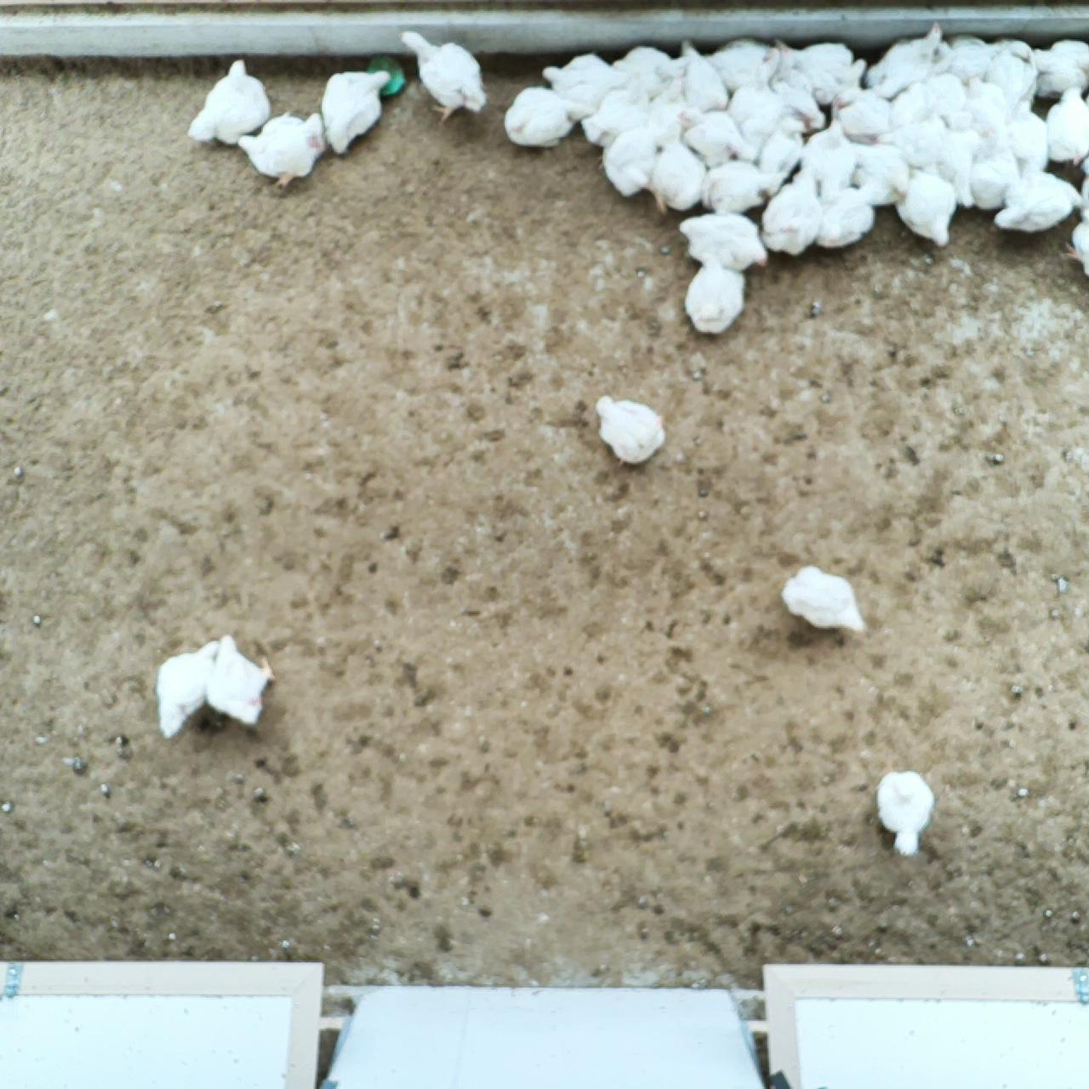chicken: (397, 29, 493, 125), (860, 22, 950, 110), (187, 57, 275, 147), (204, 629, 277, 727), (240, 113, 330, 192), (781, 562, 871, 633), (324, 63, 393, 155), (154, 642, 217, 742), (594, 389, 669, 472), (504, 83, 592, 151), (675, 206, 767, 268), (874, 765, 936, 856), (582, 82, 666, 149), (764, 166, 824, 259), (783, 41, 871, 102), (992, 177, 1081, 236), (896, 166, 964, 242), (917, 126, 980, 208), (542, 51, 625, 111), (685, 258, 748, 337), (602, 128, 671, 200), (966, 123, 1019, 216), (810, 182, 880, 252), (722, 82, 797, 146), (702, 38, 783, 97), (838, 138, 907, 205), (821, 83, 897, 143), (801, 117, 852, 204), (878, 116, 954, 174), (698, 155, 771, 215), (685, 109, 759, 168), (648, 133, 703, 212), (981, 38, 1042, 108), (1005, 100, 1055, 183), (888, 71, 964, 125), (755, 116, 805, 198), (1042, 89, 1089, 171), (1029, 38, 1089, 99), (768, 79, 829, 135), (676, 48, 729, 111), (612, 42, 689, 84), (958, 73, 1004, 142), (933, 38, 992, 86), (648, 81, 690, 144), (1065, 208, 1089, 277)
